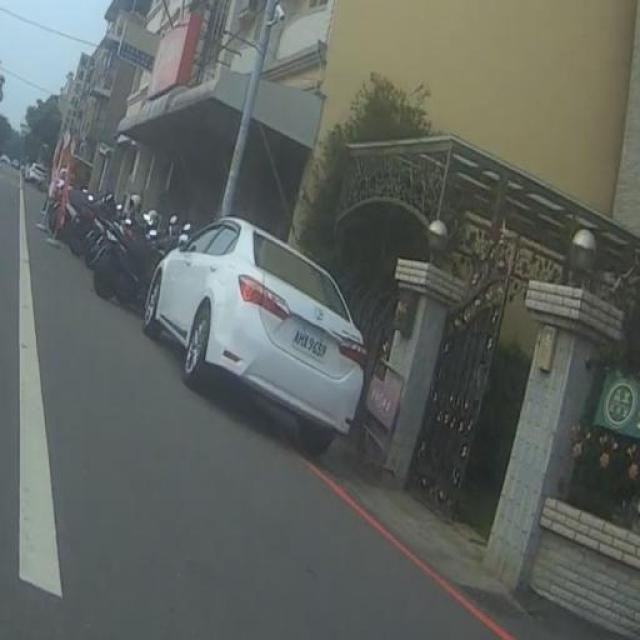Legalparking: (39, 188, 422, 454)
